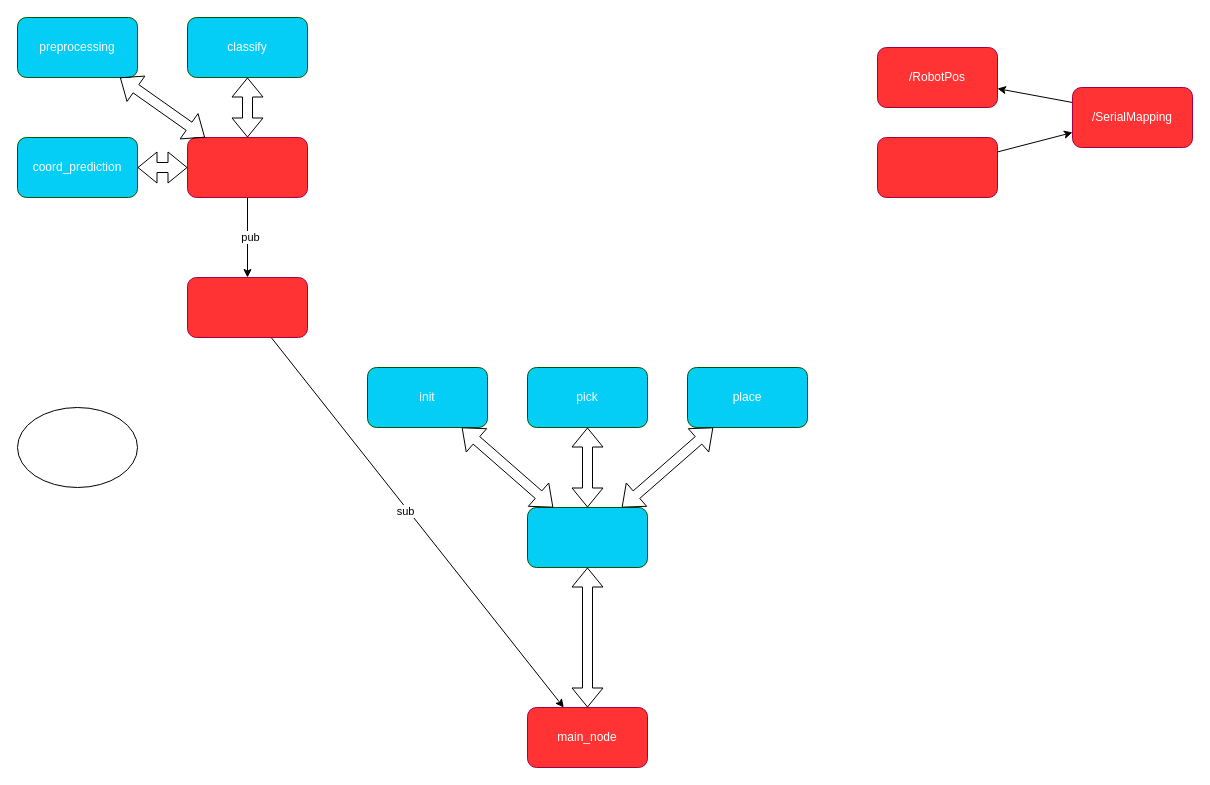
This 1210x785 diagram has some shape labels left out. Each missing label, with the centre of its shape:
"/obj_data" belongs at (247,307).
"/RobotCmd" belongs at (937,167).
"Kamera Node" belongs at (247,167).
"main_logic" belongs at (587,537).
"Test" belongs at (77,447).
